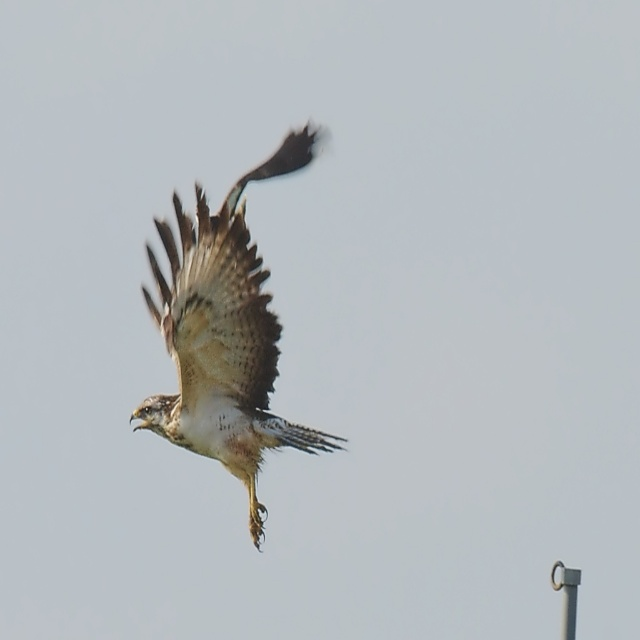Eagle: (121, 119, 348, 558)
